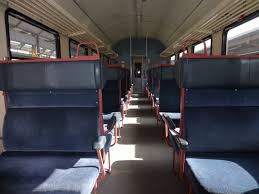seat: (8, 106, 104, 193)
